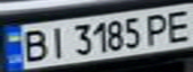1: (90, 19, 109, 54)
3: (69, 20, 93, 56)
5: (121, 14, 148, 50)
8: (106, 16, 127, 52)
B: (15, 26, 51, 63)
E: (160, 6, 193, 44)
I: (42, 24, 69, 60)
P: (142, 10, 175, 46)
